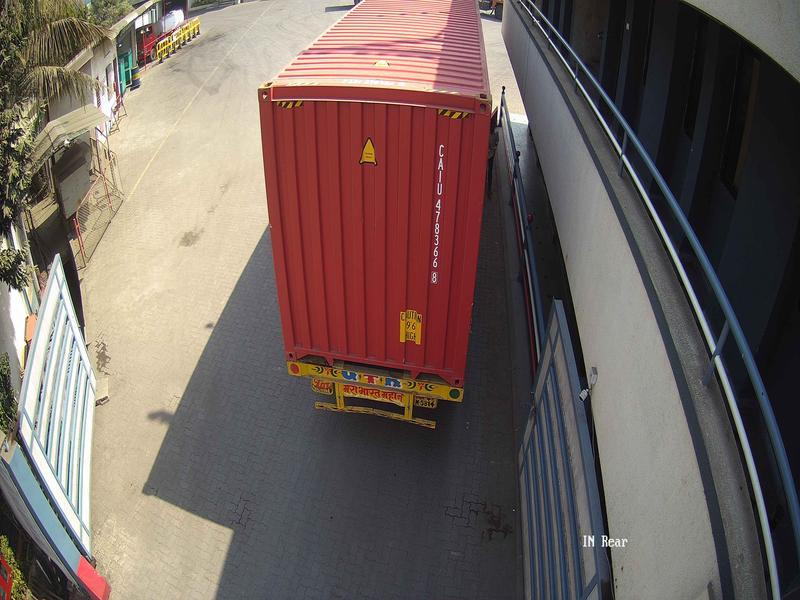container: (253, 76, 499, 387)
